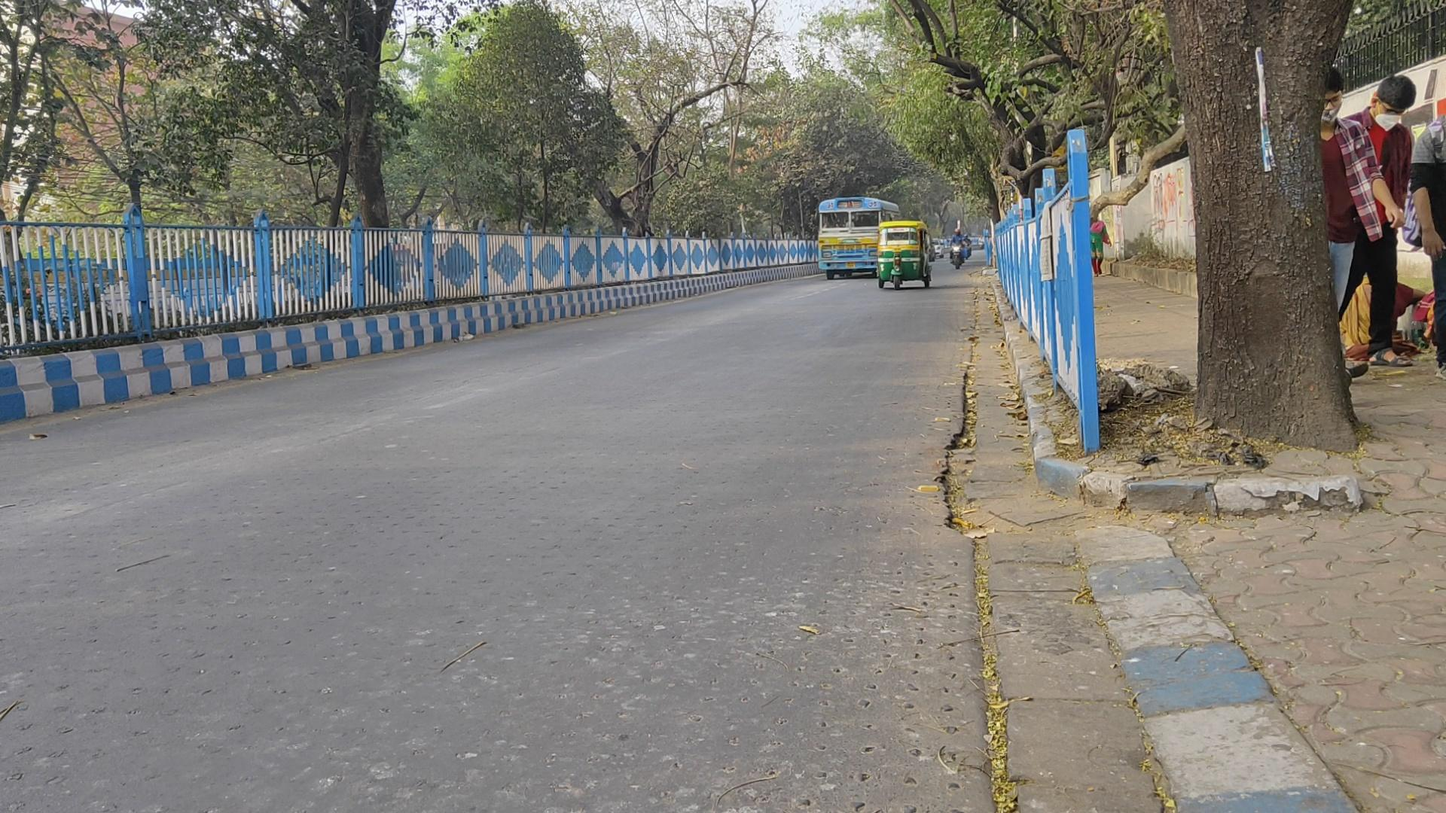Auto: (876, 220, 932, 291)
Bus: (818, 196, 900, 281)
bike: (947, 228, 968, 269)
